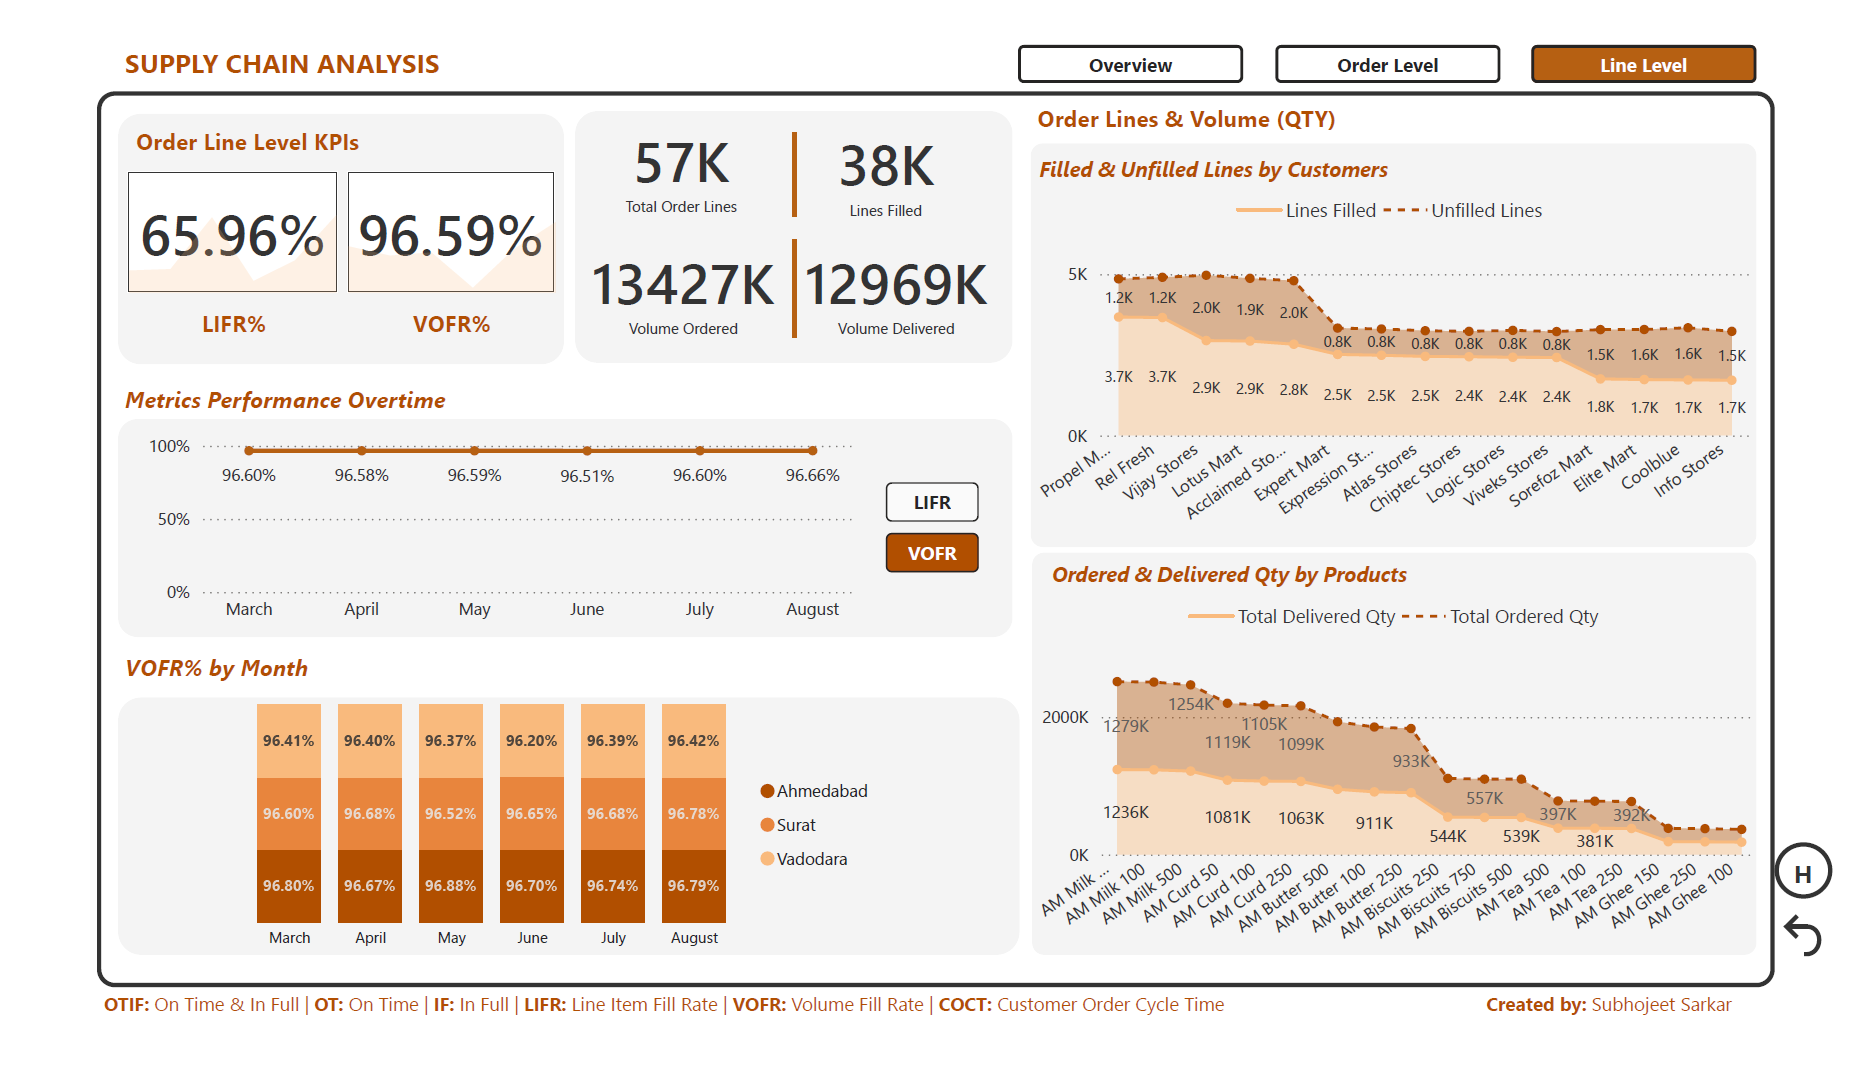

The page's visual inventory and layout, read from the dashboard file:
{"tool":"powerbi","page":{"name":"Line Level","canvas":[1280,720],"ordinal":4},"visuals":[{"type":"shape","box":[60,273.8,636.2,155],"z":0},{"type":"actionButton","title":"LIFR Button","box":[606,319,66.2,27.5],"z":0,"group":"g1"},{"type":"shape","box":[45,41.2,1192.5,636.2],"z":1000},{"type":"actionButton","title":"VOFR Button","box":[606,355.3,66.2,27.5],"z":1000,"group":"g1"},{"type":"shape","box":[708.8,77.5,516.2,287.5],"z":2000},{"type":"lineChart","title":"VOFR% Chart","fields":{"Category":["dim_date.date.Variation.Date Hierarchy.Quarter","dim_date.date.Variation.Date Hierarchy.Month"],"Y":["Measure Table.VOFR%"]},"box":[76.2,278.8,515,147.5],"z":2000,"group":"g1"},{"type":"shape","box":[710,368.8,515,286.2],"z":3000},{"type":"shape","box":[60,471.5,641.2,183.8],"z":4000},{"type":"shape","box":[60.5,56.5,316.2,178.8],"z":5000},{"type":"hundredPercentStackedColumnChart","fields":{"Category":["dim_date.date.Variation.Date Hierarchy.Month"],"Series":["dim_customers.city"],"Y":["Measure Table.VOFR%"]},"box":[131.2,462.7,476.2,197.5],"z":6000},{"type":"stackedAreaChart","fields":{"Category":["dim_customers.customer_name"],"Y":["Measure Table.Lines Filled","Measure Table.Unfilled Lines"]},"box":[708.8,105,516.2,253.8],"z":7000},{"type":"stackedAreaChart","fields":{"Y":["Measure Table.Total Delivered Quantity","Measure Table.Total Ordered Quantity"],"Category":["dim_products.product_name"]},"box":[710,393.8,520,266.2],"z":8000},{"type":"card","fields":{"Values":["Measure Table.LIFR%"]},"box":[67.2,98.2,148.8,86.2],"z":9000},{"type":"areaChart","fields":{"Y":["Measure Table.LIFR%"],"Category":["dim_date.date.Variation.Date Hierarchy.Month"]},"box":[51.2,108.2,181.2,81.2],"z":10000},{"type":"card","fields":{"Values":["Measure Table.VOFR%"]},"box":[222.5,97.7,147.5,86.2],"z":11000},{"type":"areaChart","fields":{"Category":["dim_date.date.Variation.Date Hierarchy.Month"],"Y":["Measure Table.VOFR%"]},"box":[206.5,107.7,181.2,81.2],"z":12000},{"type":"shape","box":[385,55,311.2,178.8],"z":13000},{"type":"card","fields":{"Values":["Measure Table.Total Order Lines"]},"box":[409.9,57.3,101.2,77.5],"z":14000},{"type":"card","fields":{"Values":["Measure Table.Lines Filled"]},"box":[551.2,61,110,75],"z":15000},{"type":"card","fields":{"Values":["Measure Table.Volume Ordered"]},"box":[391.3,144.1,141.2,77.5],"z":16000},{"type":"card","fields":{"Values":["Measure Table.Volume Delivered"]},"box":[538.8,144.1,148.8,77.5],"z":17000},{"type":"shape","box":[518.8,70,43.8,60],"z":18000},{"type":"shape","box":[518.8,146.2,43.8,70],"z":19000},{"type":"textbox","box":[45,676.2,842.5,43.8],"z":20000},{"type":"textbox","box":[1027.5,676.2,215,35],"z":21000},{"type":"actionButton","box":[700,7.5,160,27.5],"z":22000},{"type":"actionButton","box":[882.5,7.5,160,27.5],"z":23000},{"type":"actionButton","box":[1065,7.5,160,27.5],"z":24000},{"type":"textbox","box":[67.5,61.2,197.5,31.2],"z":25000},{"type":"textbox","box":[91.2,190,102.5,35],"z":26000},{"type":"textbox","box":[246.2,190,102.5,35],"z":27000},{"type":"textbox","box":[60,243.8,300,35],"z":28000},{"type":"textbox","box":[60,435,300,35],"z":29000},{"type":"textbox","box":[718.8,368.8,300,36.2],"z":30000},{"type":"textbox","box":[708.8,43.8,300,35],"z":31000},{"type":"textbox","box":[710,81.2,300,36.2],"z":32000},{"type":"actionButton","box":[1237.5,621.2,42.5,40],"z":33000},{"type":"actionButton","box":[1237.5,575,41.2,40],"z":34000},{"type":"group","id":"g1","title":"VOFR (Line Level)","box":[76.2,278.8,596,147.5],"z":36000},{"type":"textbox","box":[60,2.5,300,36.2],"z":37000}]}

Visuals, with their boxes in screenshot pixels (x1, y1, x2, y2), scaled from the page's 1280x720 canvas onto the 1867x1080 screenshot:
shape: [88,411,1015,643]
"LIFR Button" actionButton: [884,478,980,520]
shape: [66,62,1805,1016]
"VOFR Button" actionButton: [884,533,980,574]
shape: [1034,116,1787,548]
"VOFR% Chart" lineChart: [111,418,862,639]
shape: [1036,553,1787,982]
shape: [88,707,1023,983]
shape: [88,85,549,353]
hundredPercentStackedColumnChart - dim_date.date.Variation.Date Hierarchy.Month x dim_customers.city: [191,694,886,990]
stackedAreaChart - dim_customers.customer_name x Measure Table.Lines Filled: [1034,158,1787,538]
stackedAreaChart - Measure Table.Total Delivered Quantity x Measure Table.Total Ordered Quantity: [1036,591,1794,990]
card - Measure Table.LIFR%: [98,147,315,277]
areaChart - Measure Table.LIFR% x dim_date.date.Variation.Date Hierarchy.Month: [75,162,339,284]
card - Measure Table.VOFR%: [325,147,540,276]
areaChart - dim_date.date.Variation.Date Hierarchy.Month x Measure Table.VOFR%: [301,162,565,283]
shape: [562,82,1015,351]
card - Measure Table.Total Order Lines: [598,86,745,202]
card - Measure Table.Lines Filled: [804,92,964,204]
card - Measure Table.Volume Ordered: [571,216,777,332]
card - Measure Table.Volume Delivered: [786,216,1003,332]
shape: [757,105,821,195]
shape: [757,219,821,324]
textbox: [66,1014,1295,1079]
textbox: [1499,1014,1812,1067]
actionButton: [1021,11,1254,52]
actionButton: [1287,11,1521,52]
actionButton: [1553,11,1787,52]
textbox: [98,92,387,139]
textbox: [133,285,283,338]
textbox: [359,285,509,338]
textbox: [88,366,525,418]
textbox: [88,652,525,705]
textbox: [1048,553,1486,608]
textbox: [1034,66,1471,118]
textbox: [1036,122,1473,176]
actionButton: [1805,932,1866,992]
actionButton: [1805,862,1865,922]
"VOFR (Line Level)" group: [111,418,980,639]
textbox: [88,4,525,58]
